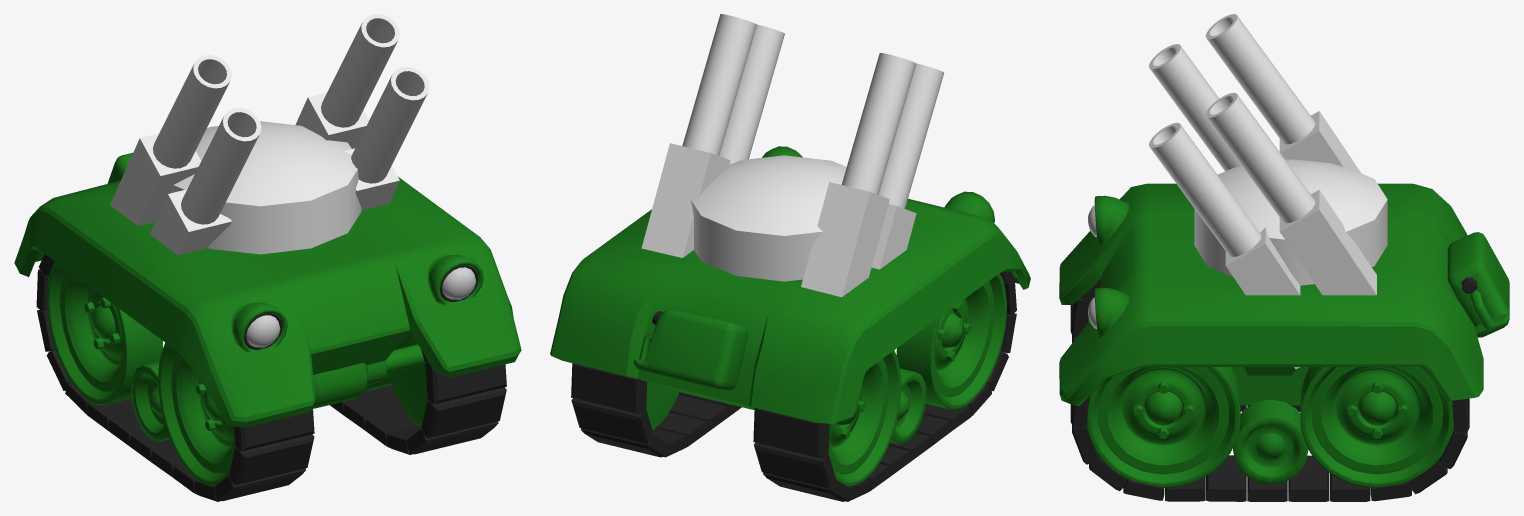
File: Auto.FBX
3 views of the same model, side by side, from view 1: azimuth 30°, elevation 25°; view 2: azimuth 150°, elevation 25°; view 3: azimuth 270°, elevation 25° (orthographic). The views are drawn at different scales.
Visible parts, largest first — view 1: TankChassis, TankTracksRight, Tube001, OilTank001, TankTracksLeft, Box003; view 2: TankChassis, TankTracksRight, Tube001, OilTank001, Box003, TankTracksLeft; view 3: TankChassis, TankTracksLeft, Tube001, Box003, OilTank001, TankTracksRight.
Boxes of the visible parts, x1,y1,x2,y2 form: TankChassis: (14,152,521,441); TankTracksRight: (36,254,314,501); Tube001: (153,14,429,224); OilTank001: (171,121,361,254); TankTracksLeft: (330,330,506,454); Box003: (110,92,399,255); TankChassis: (550,146,1030,444); TankTracksRight: (753,271,1016,501); Tube001: (682,14,943,208); OilTank001: (691,155,846,281); Box003: (641,143,916,297); TankTracksLeft: (571,363,741,457); TankChassis: (1059,183,1509,484); TankTracksLeft: (1070,366,1469,501); Tube001: (1149,14,1315,257); Box003: (1225,111,1376,369); OilTank001: (1194,159,1387,285); TankTracksRight: (1070,280,1300,411).
Bounding box in the file's own units: 72.27 × 87.88 × 93.14.
